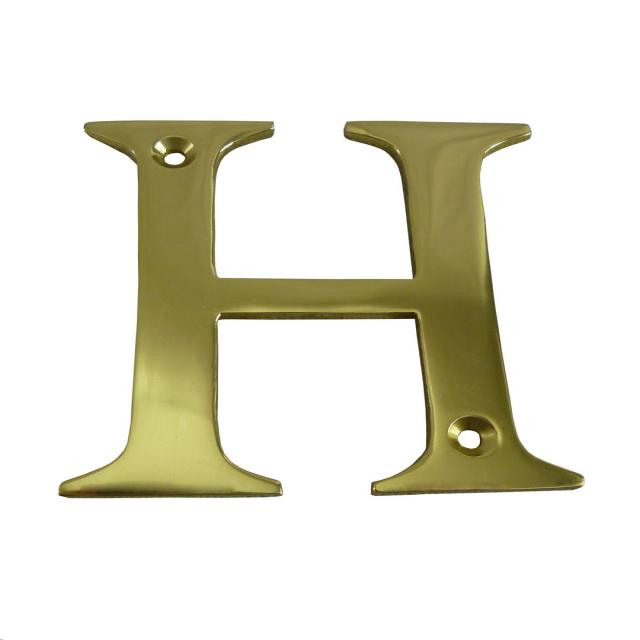H: (73, 78, 598, 559)
